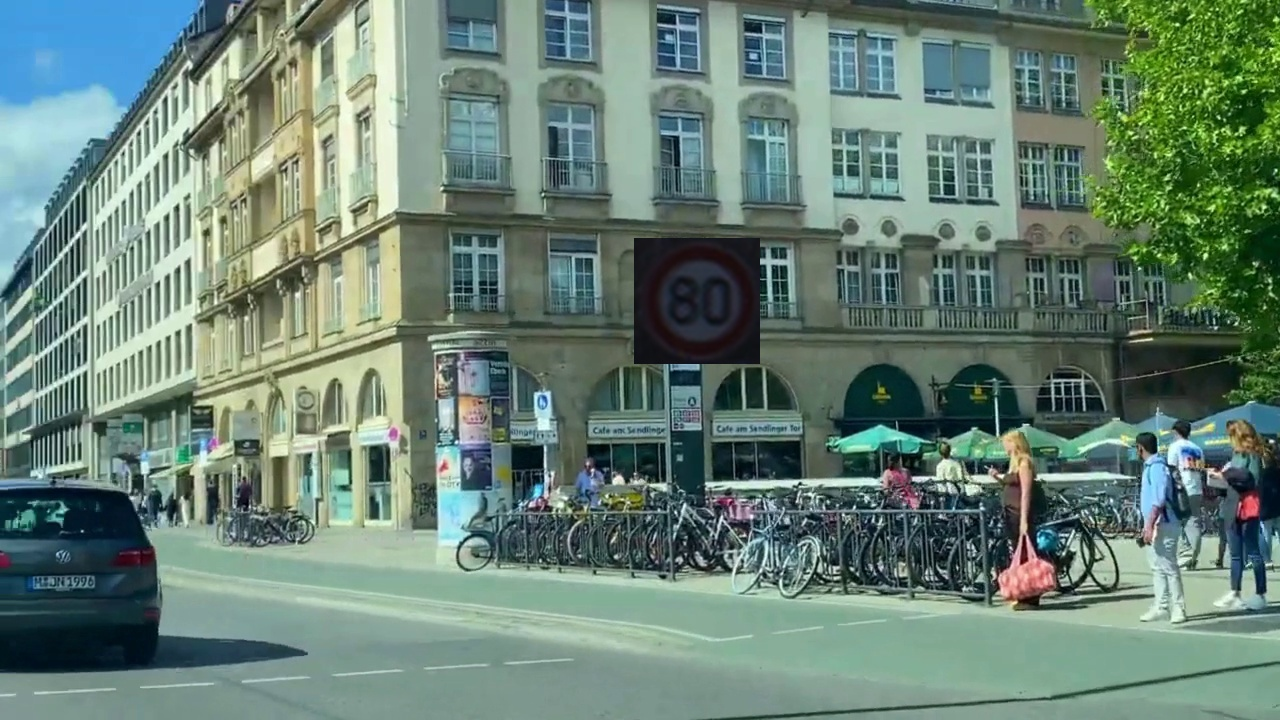Speed 80: (634, 238, 760, 364)
